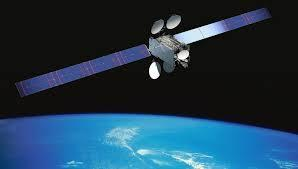antenna: (165, 13, 183, 31), (149, 17, 166, 36), (148, 60, 163, 81), (162, 59, 176, 74), (176, 48, 191, 61)
body: (147, 33, 188, 68)
solar: (13, 42, 153, 99), (171, 5, 275, 46)
